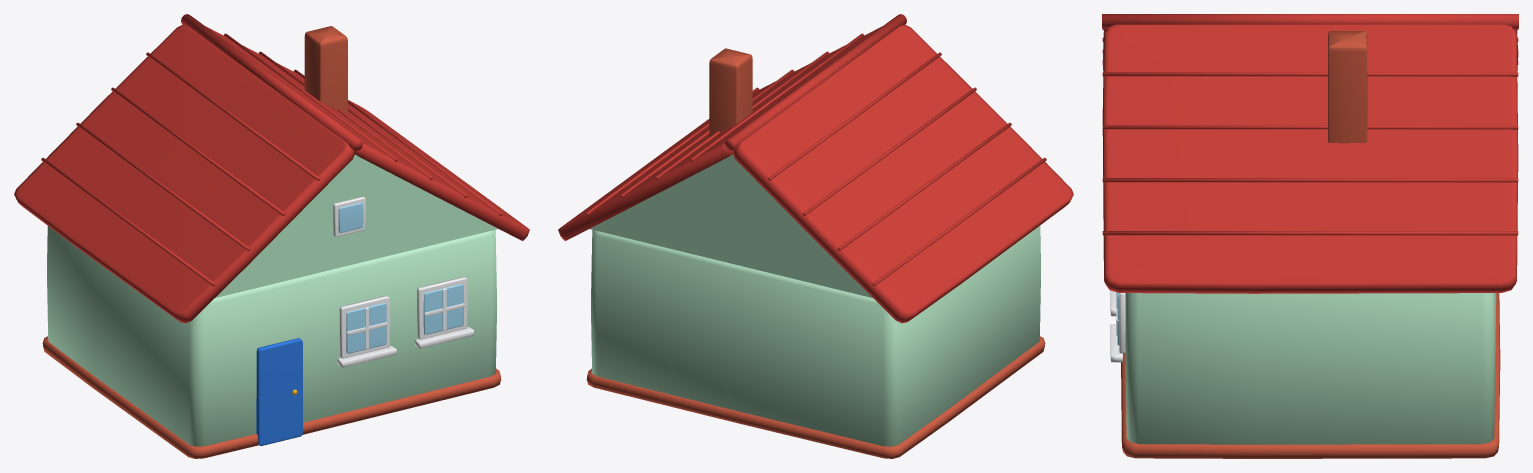
Rendered from house_c.glb.
3 renders of one model, left to right at view 1: azimuth 30°, elevation 25°; view 2: azimuth 150°, elevation 25°; view 3: azimuth 270°, elevation 25°, orthographic. The views are drawn at different scales.
Parts seen in each view (by area): view 1: Body; view 2: Body; view 3: Body.
Part boxes in pixels (x1,y1,x2,y2): Body: (14,14,529,458); Body: (558,14,1073,458); Body: (1102,14,1518,458).
Size of the model in its own units: 8.03 by 6.58 by 6.72.
